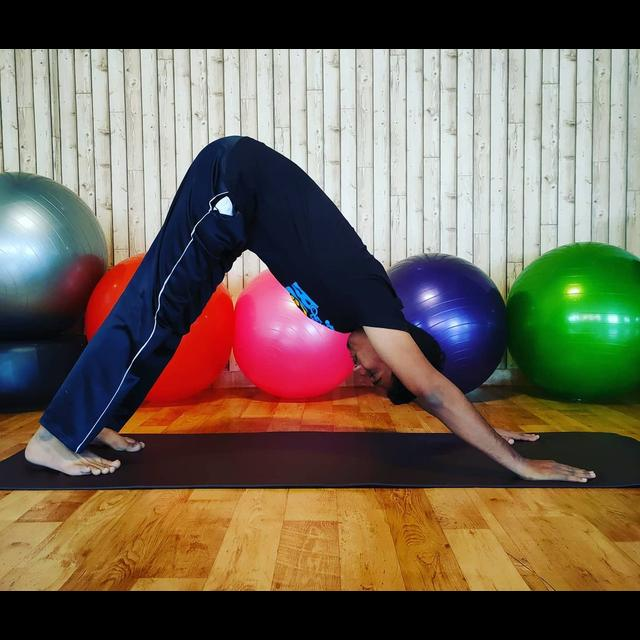Downward-Facing_Dog: (19, 131, 599, 488)
